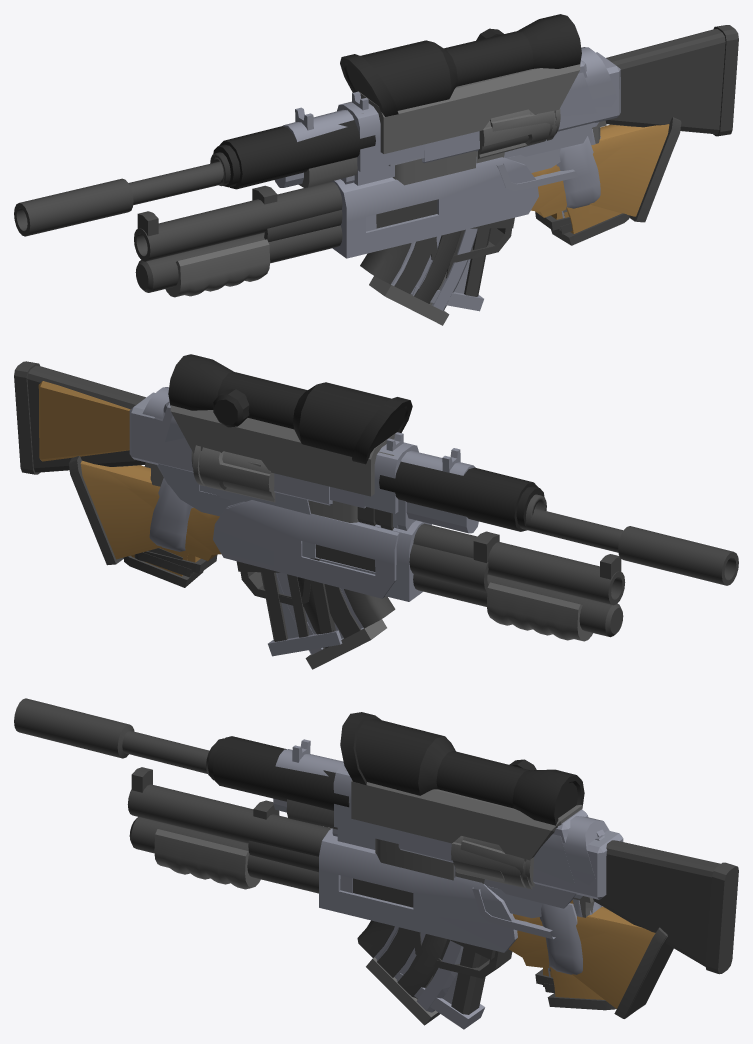
The picture shows the model from 3 angles, top to bottom: view 1: azimuth 30°, elevation 25°; view 2: azimuth 150°, elevation 25°; view 3: azimuth 330°, elevation 25°; orthographic projection.
Parts seen in each view (by area): view 1: Sniper, Shotgun, AK, SMG, ShortCannon, Revolver, Pistol, Revolver_Small; view 2: Sniper, Shotgun, AK, ShortCannon, SMG, Revolver, Pistol, Revolver_Small; view 3: Sniper, Shotgun, AK, SMG, ShortCannon, Revolver, Pistol, Revolver_Small.
Part boxes in pixels (left/top/right/bottom): Sniper: left=14, top=14, right=738, bottom=311; Shotgun: left=134, top=123, right=681, bottom=297; AK: left=210, top=52, right=620, bottom=325; SMG: left=213, top=47, right=616, bottom=303; ShortCannon: left=252, top=117, right=681, bottom=262; Revolver: left=282, top=107, right=629, bottom=245; Pistol: left=337, top=72, right=600, bottom=230; Revolver_Small: left=490, top=109, right=572, bottom=234; Sniper: left=14, top=354, right=738, bottom=656; Shotgun: left=69, top=460, right=625, bottom=641; AK: left=38, top=381, right=546, bottom=669; ShortCannon: left=69, top=456, right=499, bottom=605; SMG: left=134, top=387, right=544, bottom=648; Revolver: left=123, top=415, right=475, bottom=587; Pistol: left=144, top=432, right=418, bottom=573; Revolver_Small: left=138, top=451, right=261, bottom=577; Sniper: left=14, top=698, right=738, bottom=1029; Shotgun: left=127, top=767, right=673, bottom=1018; AK: left=206, top=744, right=623, bottom=1025; SMG: left=208, top=736, right=609, bottom=997; ShortCannon: left=248, top=800, right=673, bottom=1018; Revolver: left=275, top=739, right=615, bottom=1010; Pistol: left=333, top=763, right=582, bottom=984; Revolver_Small: left=460, top=835, right=604, bottom=993.
Bounding box in the file's own units: 2.05 × 0.7763 × 0.1906.
